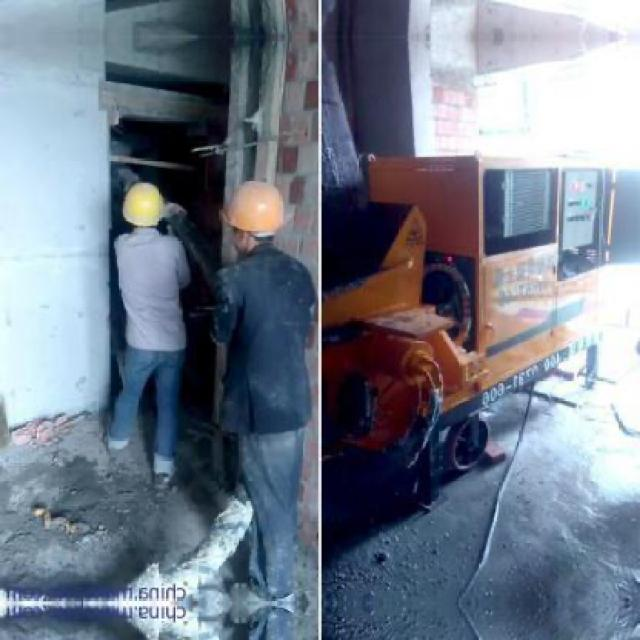helmet: (223, 177, 285, 255), (122, 178, 169, 231)
